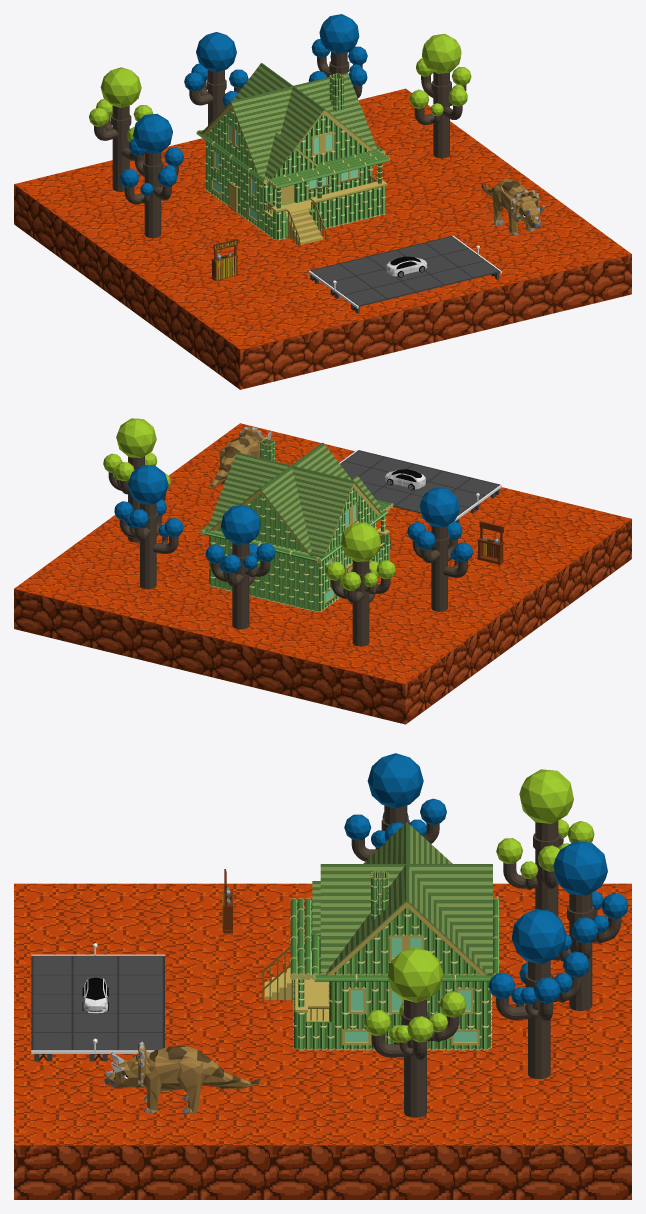
3 renders of one model, top to bottom at view 1: azimuth 30°, elevation 25°; view 2: azimuth 150°, elevation 25°; view 3: azimuth 270°, elevation 25°, orthographic. The views are drawn at different scales.
Visible parts, largest first — view 1: Cube.001, Cube.1327, ANIMAL_Triceratops, OBJRANDOM_LEMONADE_STAND, VEHICLES_TESLA; view 2: Cube.001, Cube.1327, ANIMAL_Triceratops, OBJRANDOM_LEMONADE_STAND, VEHICLES_TESLA; view 3: Cube.001, Cube.1327, ANIMAL_Triceratops, VEHICLES_TESLA.
Part boxes in pixels (x1,y1,x2,y2): Cube.001: [14, 14, 631, 389]; Cube.1327: [196, 63, 389, 246]; ANIMAL_Triceratops: [481, 179, 544, 235]; OBJRANDOM_LEMONADE_STAND: [211, 239, 237, 280]; VEHICLES_TESLA: [386, 256, 427, 277]; Cube.001: [14, 418, 631, 724]; Cube.1327: [199, 438, 393, 612]; ANIMAL_Triceratops: [208, 427, 271, 487]; OBJRANDOM_LEMONADE_STAND: [477, 521, 503, 564]; VEHICLES_TESLA: [385, 469, 425, 490]; Cube.001: [14, 753, 631, 1199]; Cube.1327: [262, 822, 499, 1050]; ANIMAL_Triceratops: [103, 1041, 261, 1114]; VEHICLES_TESLA: [82, 977, 108, 1013].
Size of the model in its own units: 4000 by 1614 by 4000.
Materials: 34 (6 with a texture image).
